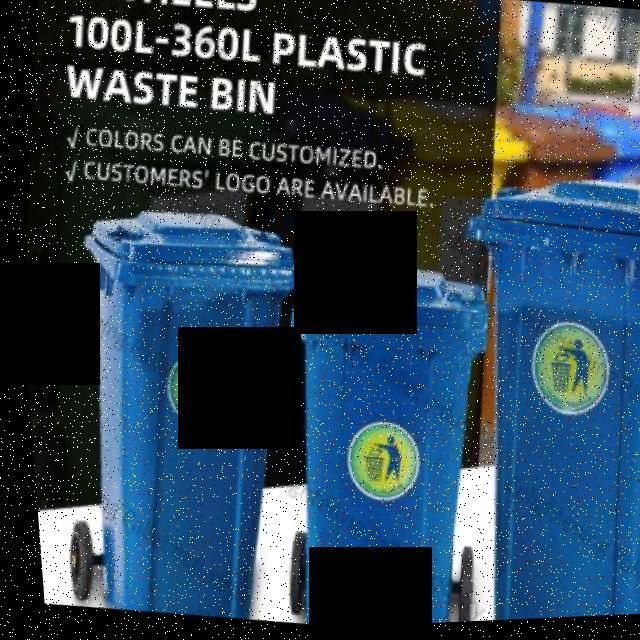bin: (22, 184, 328, 632), (237, 248, 516, 632), (410, 162, 640, 626)
